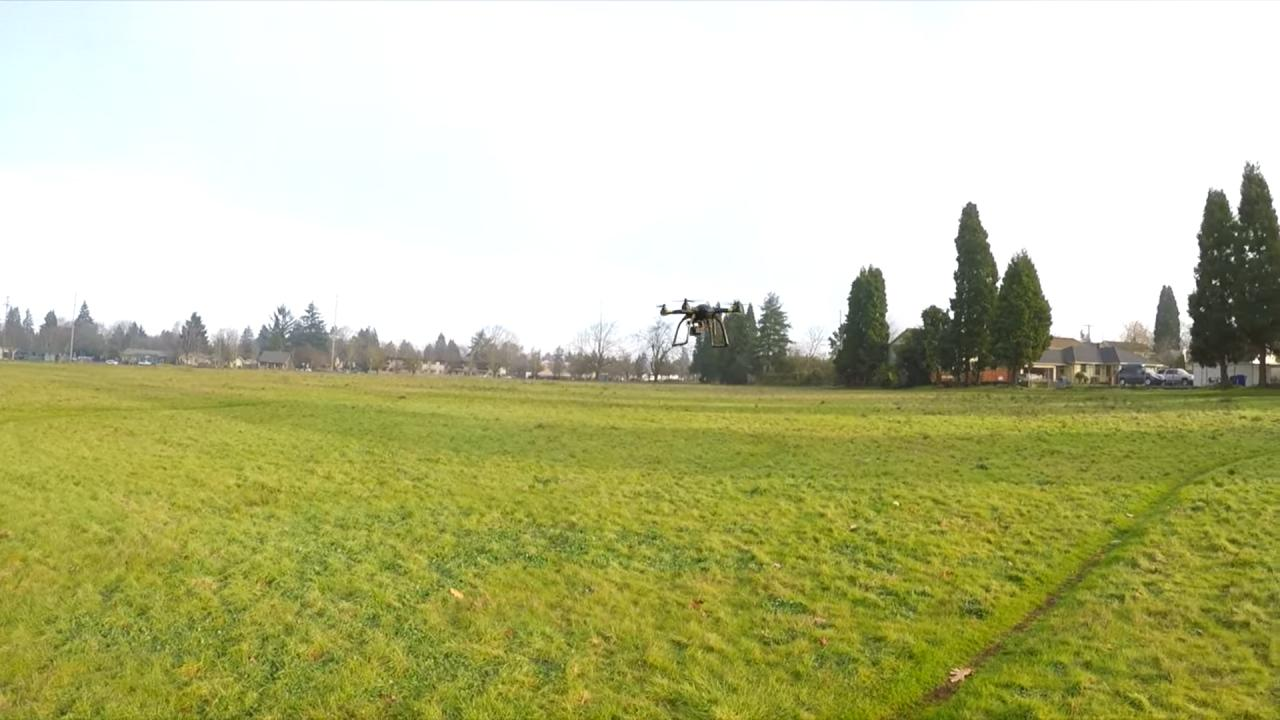Drone: (647, 290, 756, 358)
